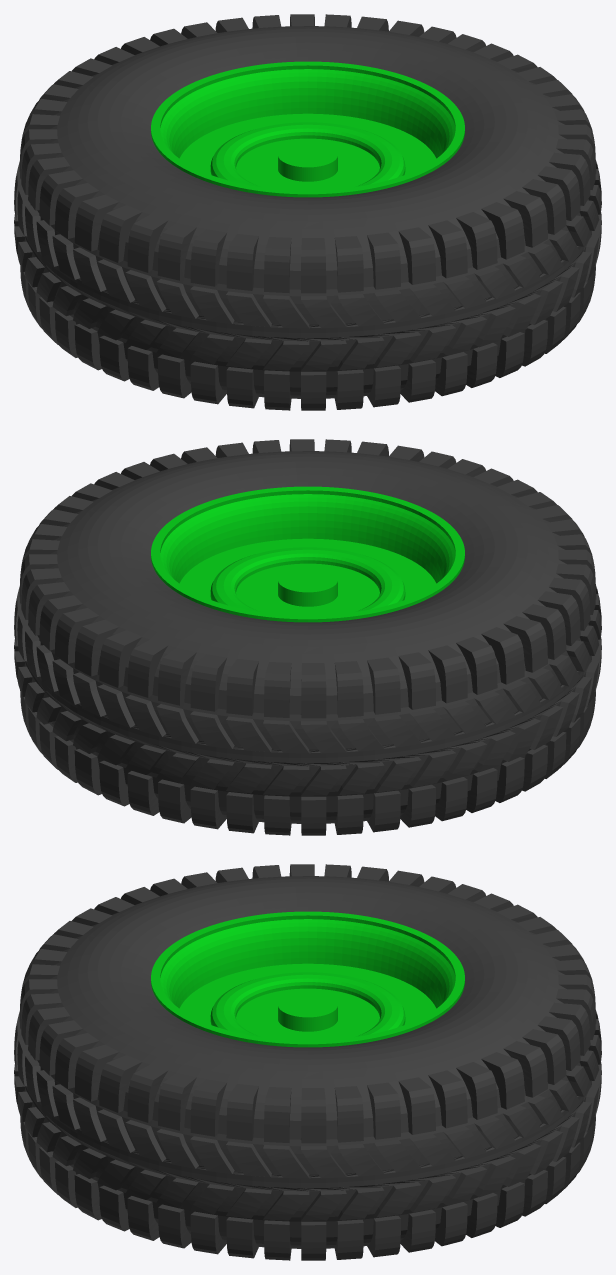
Rendered from wheel_R.obj.
3 renders of one model, top to bottom at view 1: azimuth 30°, elevation 25°; view 2: azimuth 150°, elevation 25°; view 3: azimuth 270°, elevation 25°, orthographic.
Parts seen in each view (by area): view 1: wheel1; view 2: wheel1; view 3: wheel1.
Boxes of the visible parts, x1,y1,x2,y2 form: wheel1: (14,14,601,410); wheel1: (14,439,601,835); wheel1: (14,864,601,1260).
Bounding box in the file's own units: 0.9067 × 0.3129 × 0.9067.
